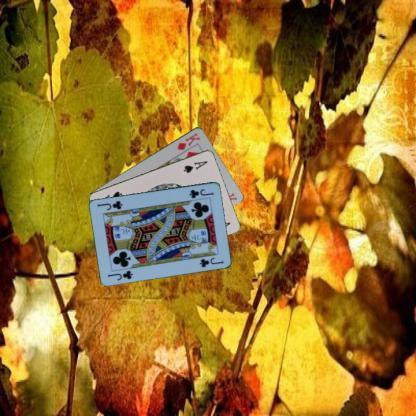As: (180, 158, 210, 174)
Jc: (105, 268, 134, 282), (187, 186, 215, 200)
Kd: (174, 130, 202, 151)
